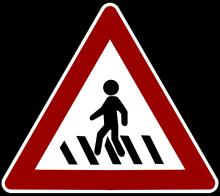Pedestrian Crossing: (13, 10, 203, 179)
